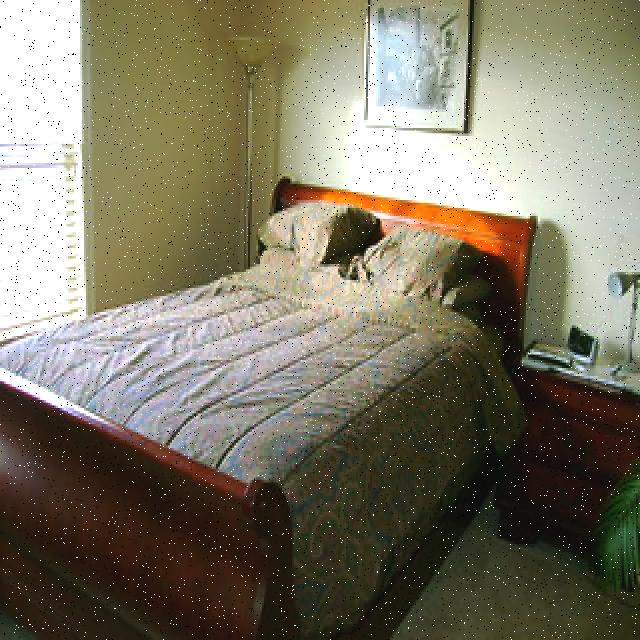bed: (0, 173, 543, 623)
